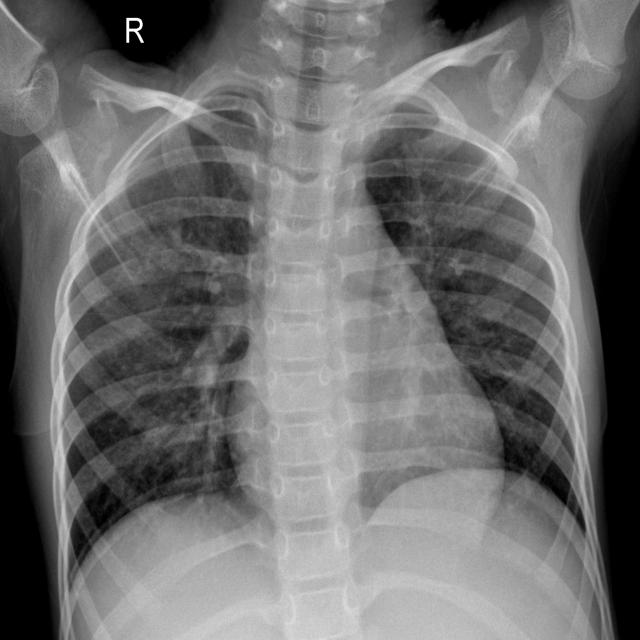no-pneumonia: (55, 77, 270, 587), (367, 116, 588, 528)
